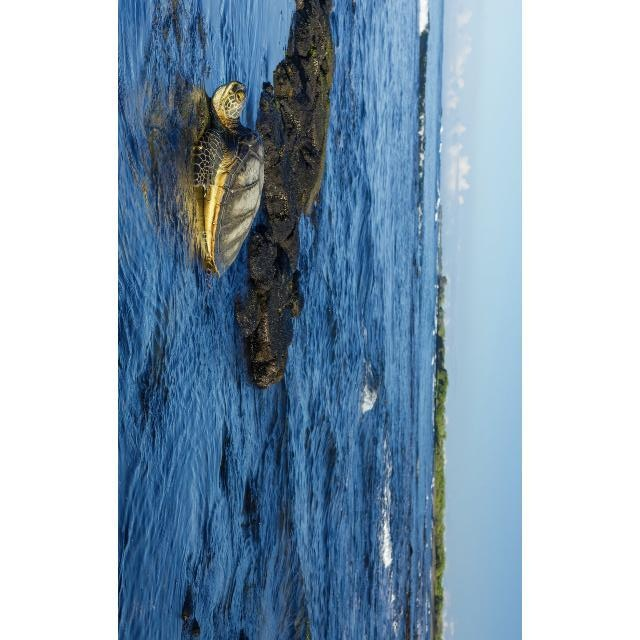turtle: (190, 81, 266, 289)
